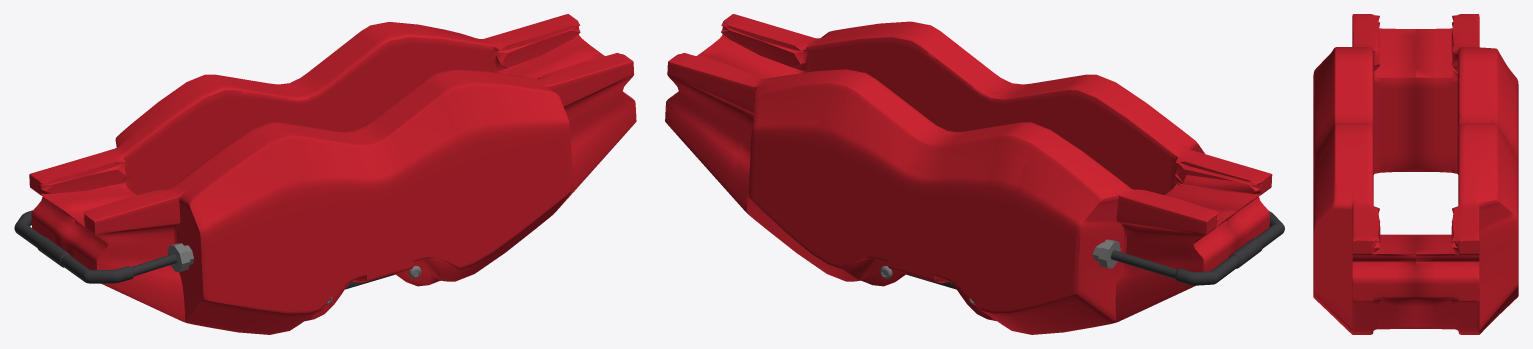
Rendered from wilwood-4p.glb.
3 renders of one model, left to right at view 1: azimuth 30°, elevation 25°; view 2: azimuth 150°, elevation 25°; view 3: azimuth 270°, elevation 25°, orthographic. The views are drawn at different scales.
Parts seen in each view (by area): view 1: RealCaliper; view 2: RealCaliper; view 3: RealCaliper.
Boxes of the visible parts, bbox=[...] form: RealCaliper: bbox=[14, 14, 636, 334]; RealCaliper: bbox=[665, 14, 1284, 334]; RealCaliper: bbox=[1313, 14, 1518, 334].
Size of the model in its own units: 0.233 by 0.0856 by 0.0772.
